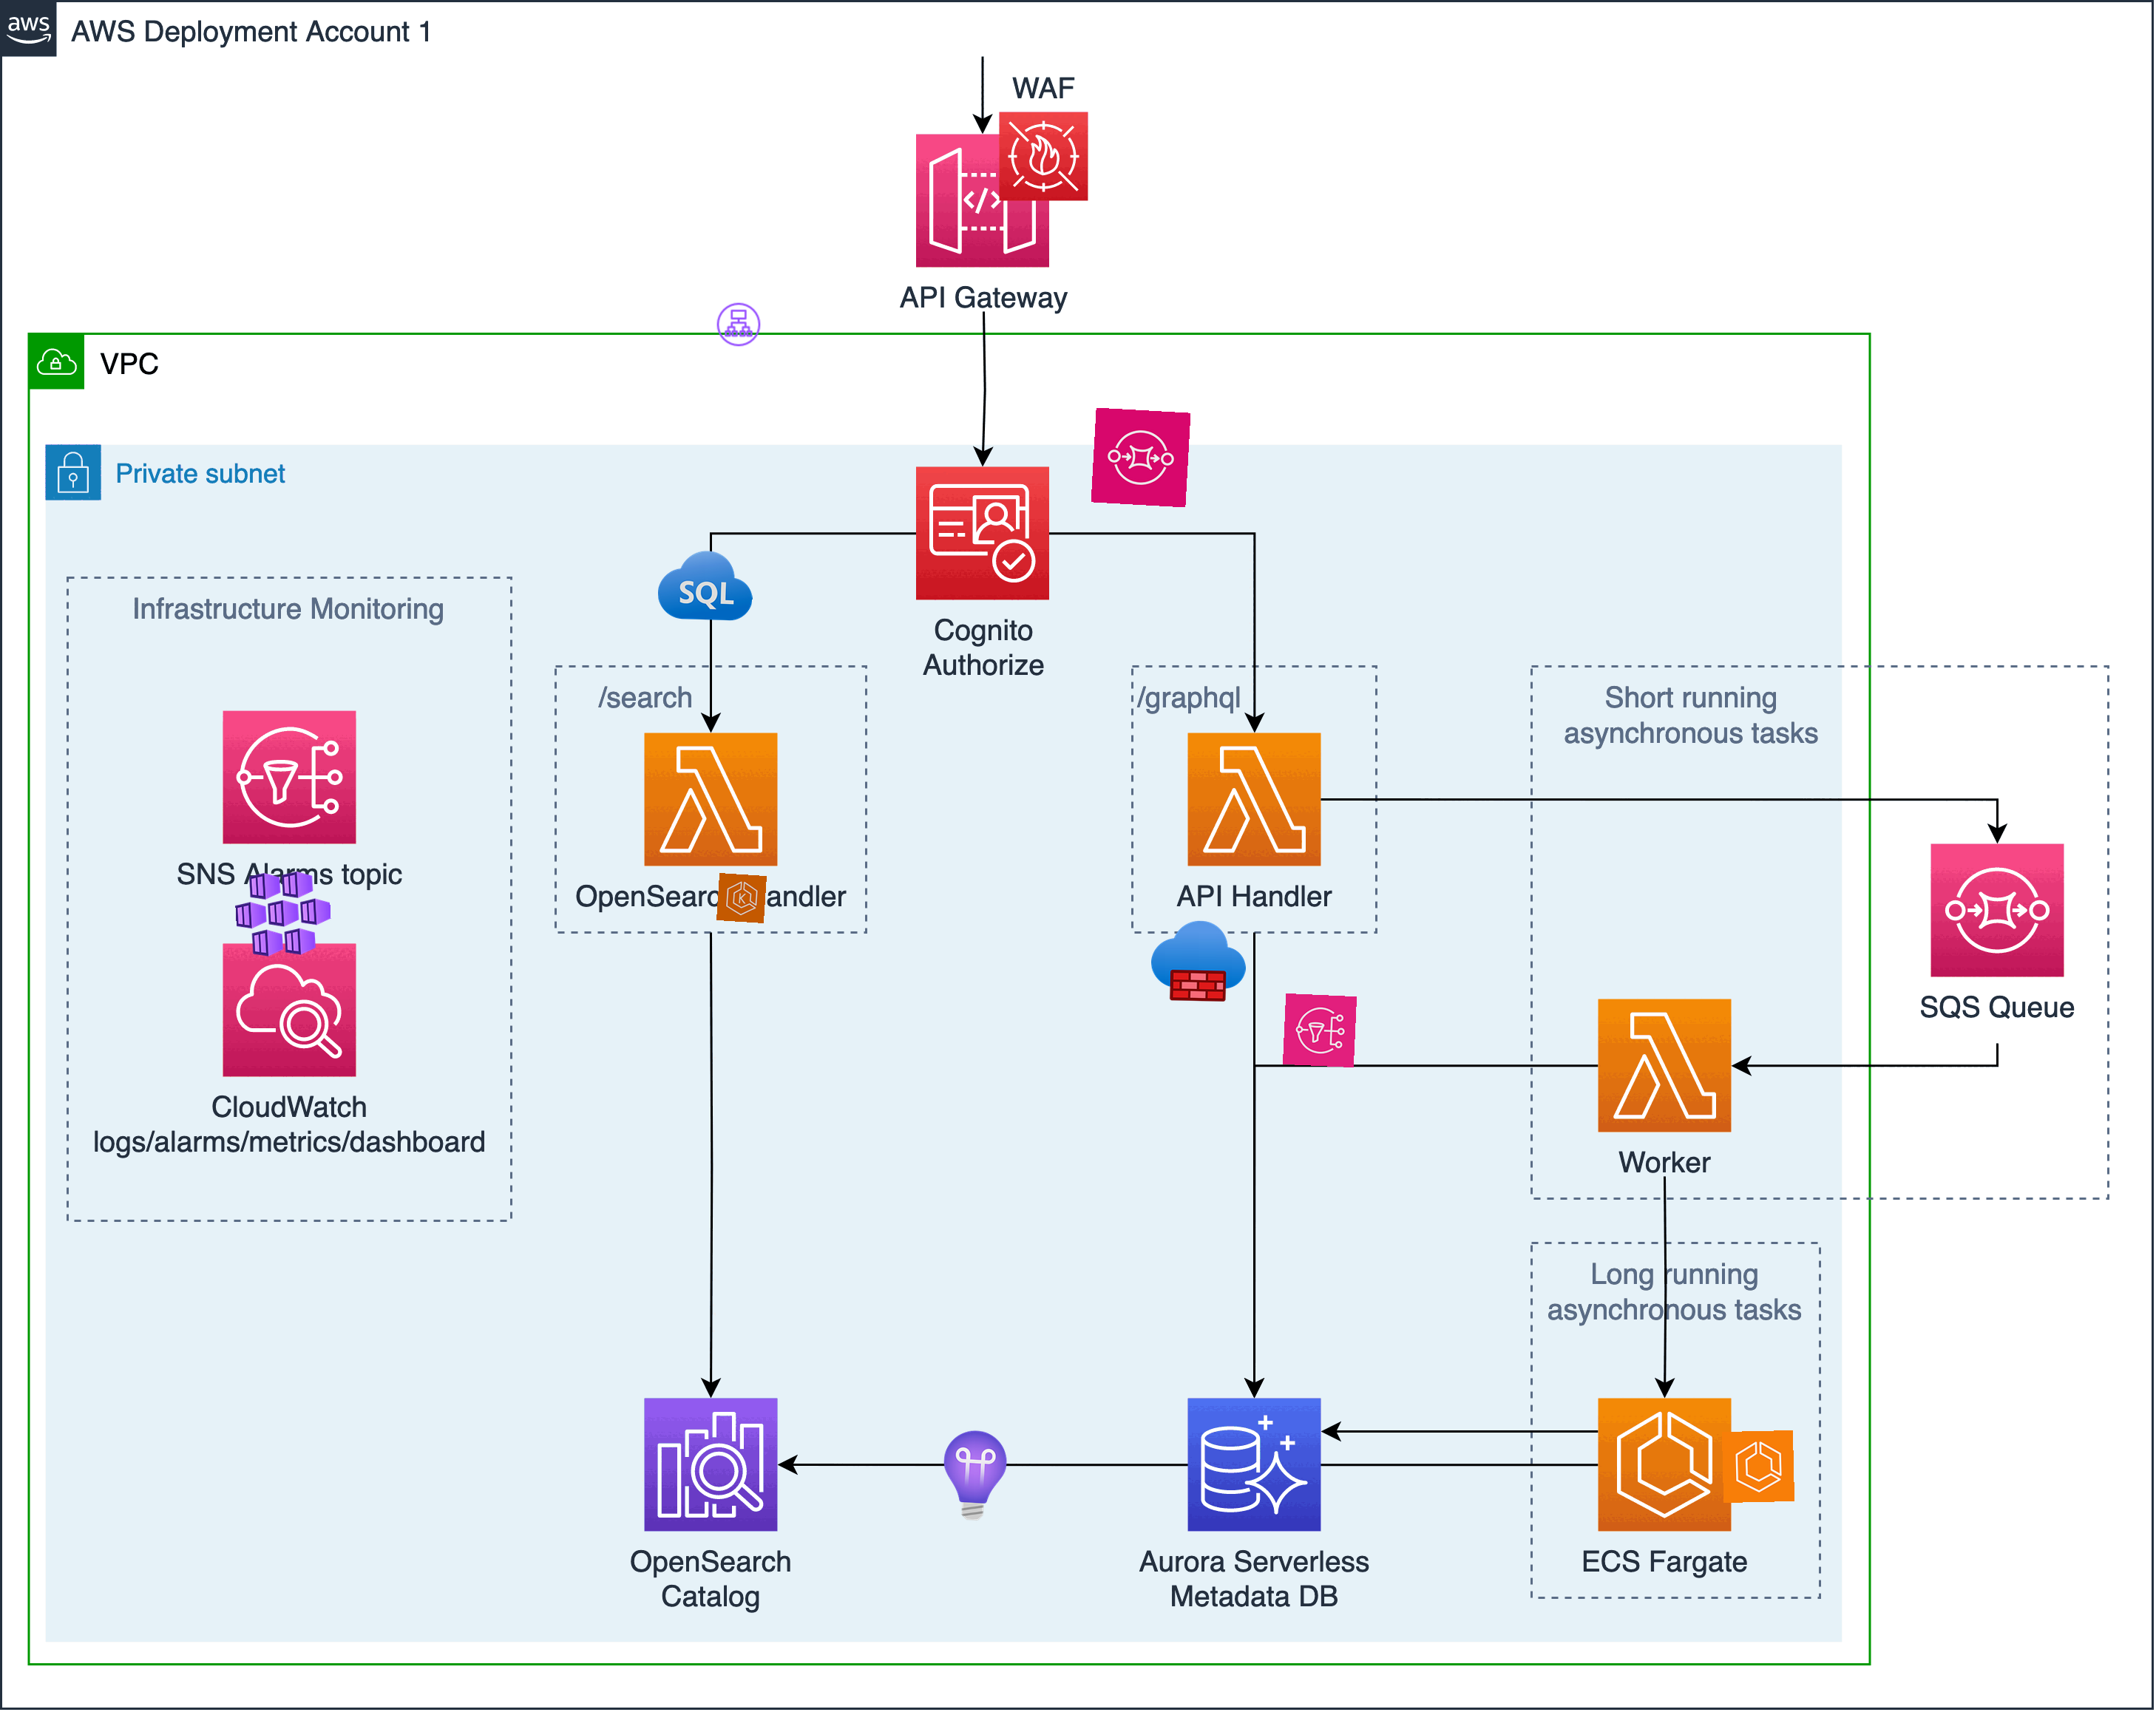aws_amazon_elastic_container_service: (1722, 1430, 1796, 1504)
aws_amazon_elastic_kubernetes_service: (716, 873, 768, 923)
aws_amazon_simple_notification_service: (1283, 993, 1358, 1068)
aws_amazon_simple_queue_service: (1090, 407, 1192, 507)
aws_elastic_load_balancing_application_load_balancer: (714, 301, 763, 350)
azure_application_insights: (924, 1425, 1025, 1525)
azure_firewalls: (1150, 913, 1248, 1009)
azure_kubernetes_services: (233, 862, 334, 964)
azure_sql: (656, 539, 754, 637)
